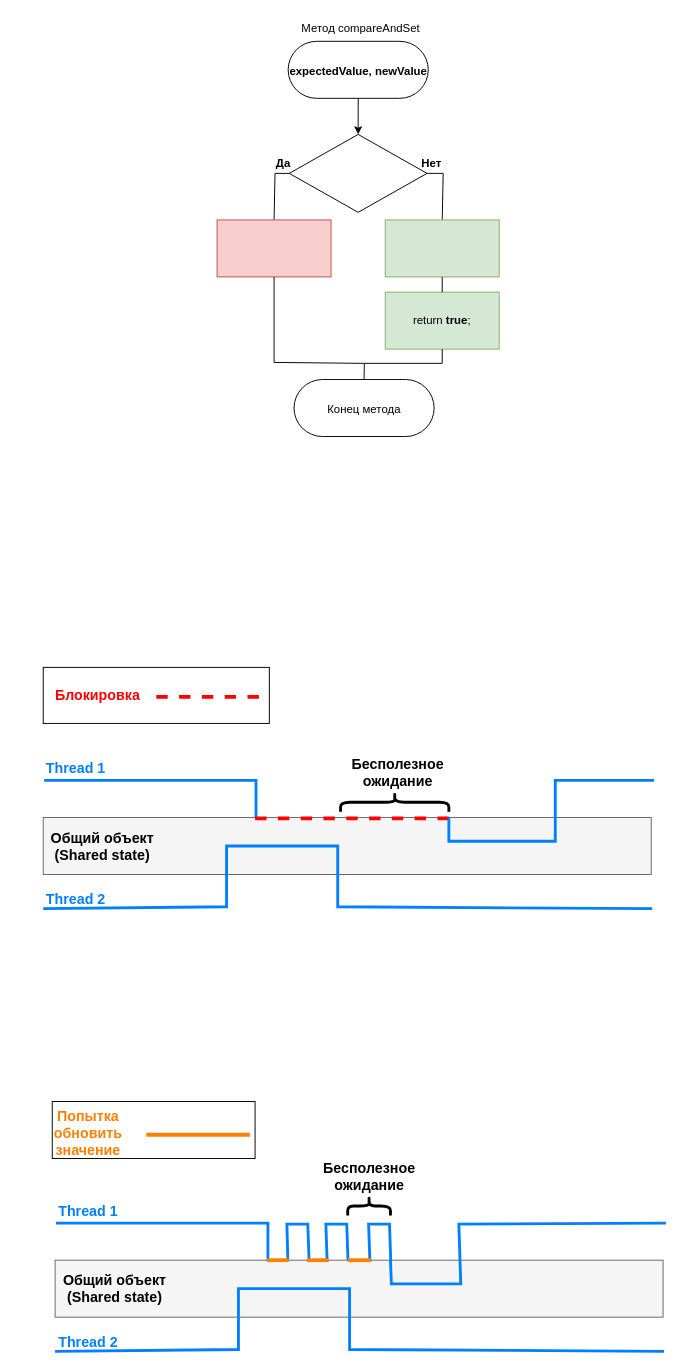
Some shapes in this 684 by 1372 pixel diagram are drawn without their labels. The shapes that lost their labels are listed below. From the top down, each one's centre as x and y in pixels, then its label:
At [357,172]: "expectedValue изменилось?".
At [273,248]: "return false ;".
At [441,248]: "Сохранение в переменную balance значение newValue".
